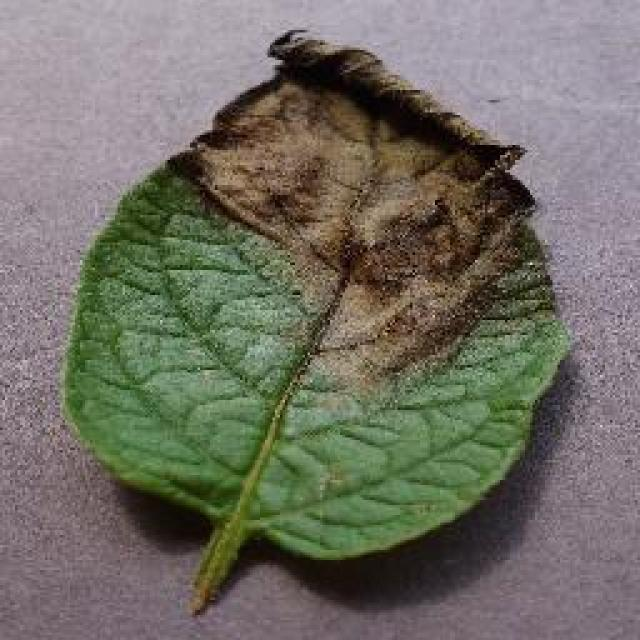green waste: (36, 12, 580, 629)
